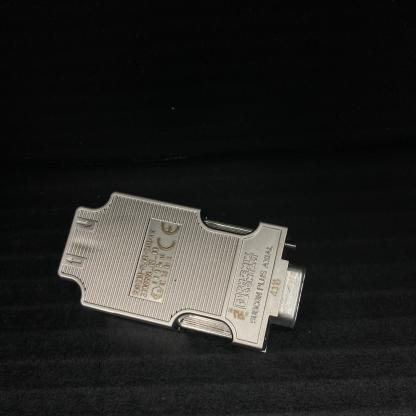SP0000010: (31, 137, 358, 372)
